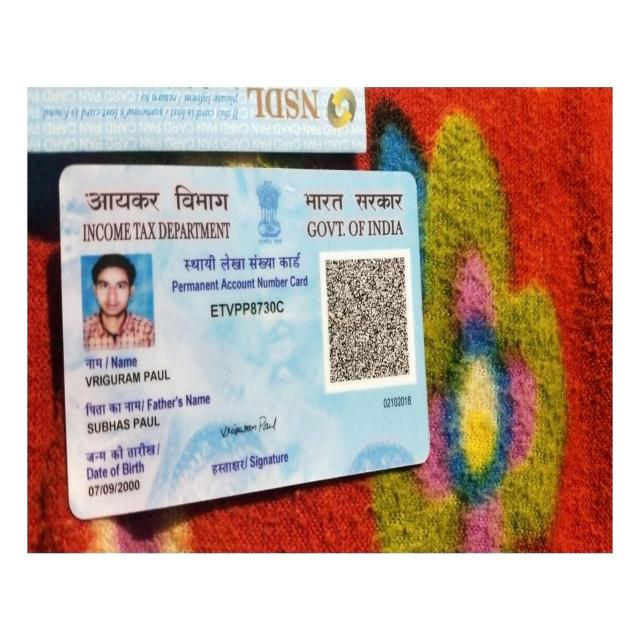pan_card: (66, 178, 425, 507)
